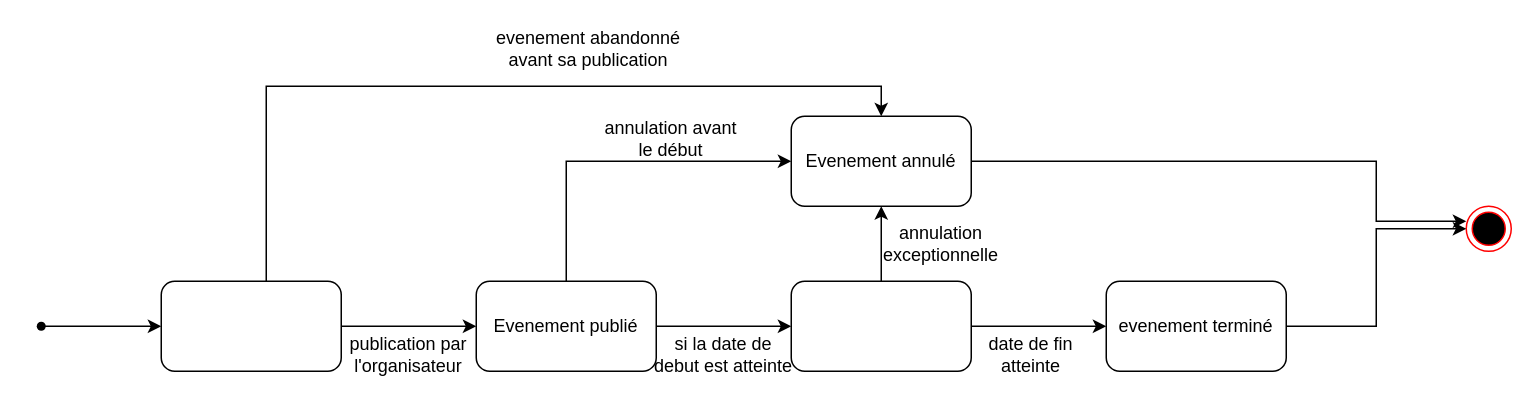
Some shapes in this 1538 by 402 pixel diagram are drawn without their labels. Each missing label, with the centre of its shape:
"Brouillon de l'evenement" belongs at point 250,325.
"Evenement en cours" belongs at point 880,325.
